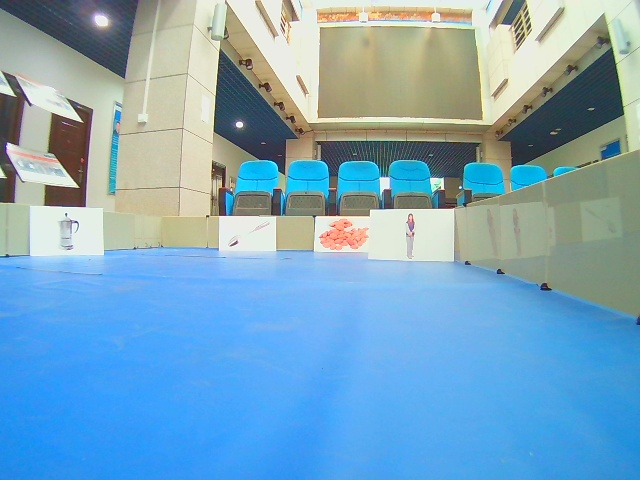dish: (30, 206, 106, 260), (219, 213, 276, 253)
food: (314, 214, 370, 257)
person: (369, 207, 455, 264)
